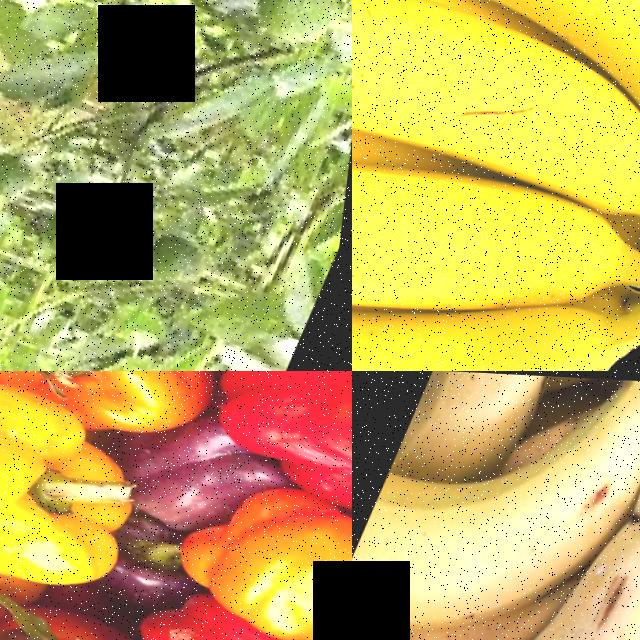banana: (352, 0, 640, 371), (352, 371, 640, 640), (469, 372, 640, 640)
bell pepper: (0, 394, 199, 612), (153, 445, 352, 640), (187, 371, 352, 551), (0, 371, 229, 455), (126, 573, 352, 640)
